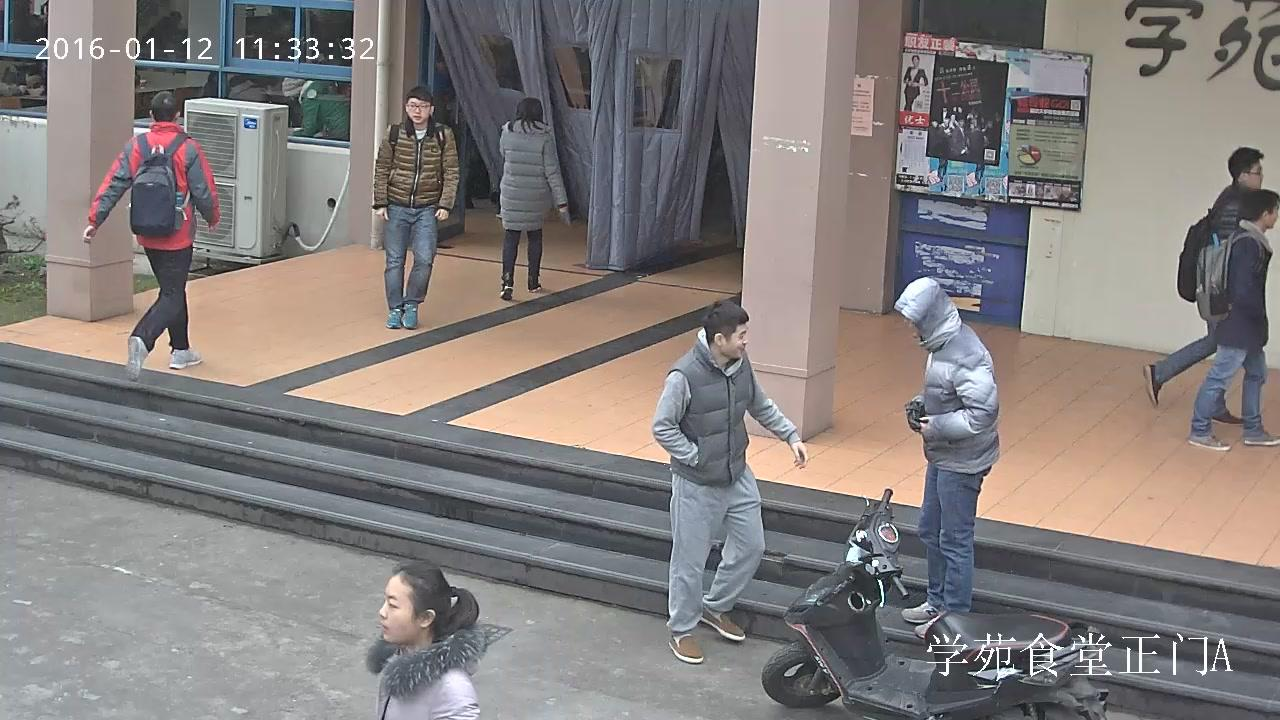person: (652, 299, 808, 665), (83, 91, 219, 384), (892, 275, 998, 644), (1142, 146, 1265, 426), (1187, 188, 1280, 451), (373, 87, 461, 331), (364, 558, 490, 720), (496, 97, 570, 302), (281, 74, 353, 144), (0, 56, 40, 97), (225, 70, 271, 105), (902, 55, 928, 113)
